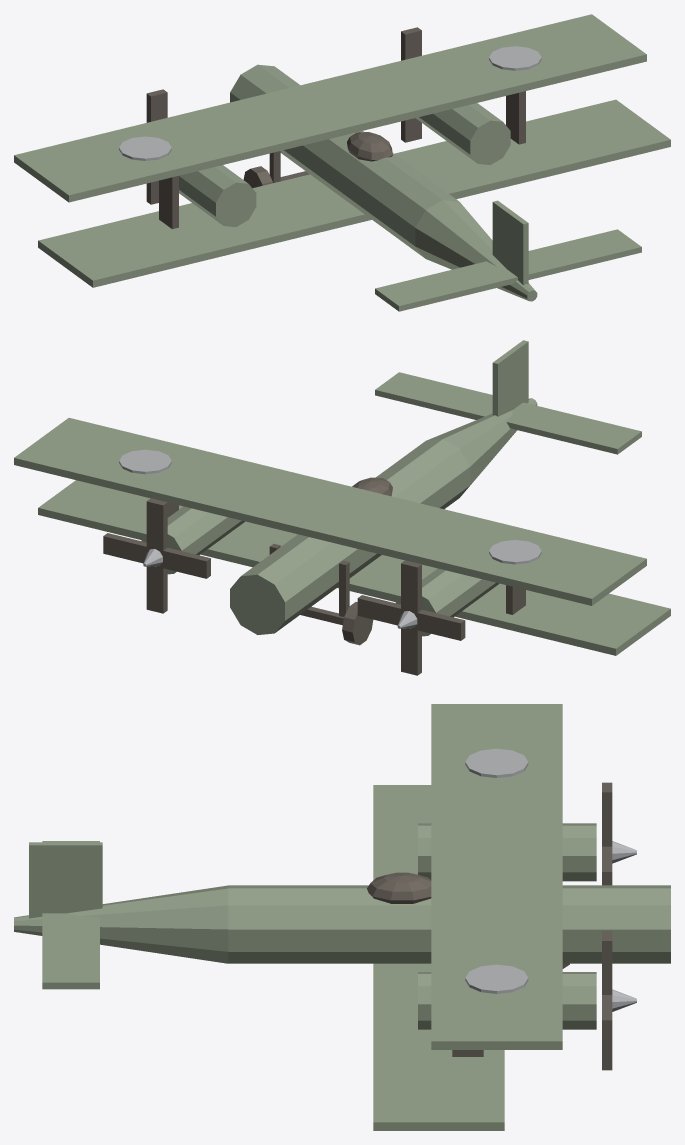
Rendered from enemy-bomber.glb.
3 renders of one model, top to bottom at view 1: azimuth 30°, elevation 25°; view 2: azimuth 150°, elevation 25°; view 3: azimuth 270°, elevation 25°, orthographic. The views are drawn at different scales.
Parts seen in each view (by area): view 1: enemy-bomber; view 2: enemy-bomber; view 3: enemy-bomber.
Boxes of the visible parts, x1=… form: enemy-bomber: x1=14, y1=14, x2=670, y2=311; enemy-bomber: x1=14, y1=340, x2=670, y2=675; enemy-bomber: x1=14, y1=704, x2=670, y2=1130.
Bounding box in the file's own units: 7.6 × 1.63 × 6.26.
